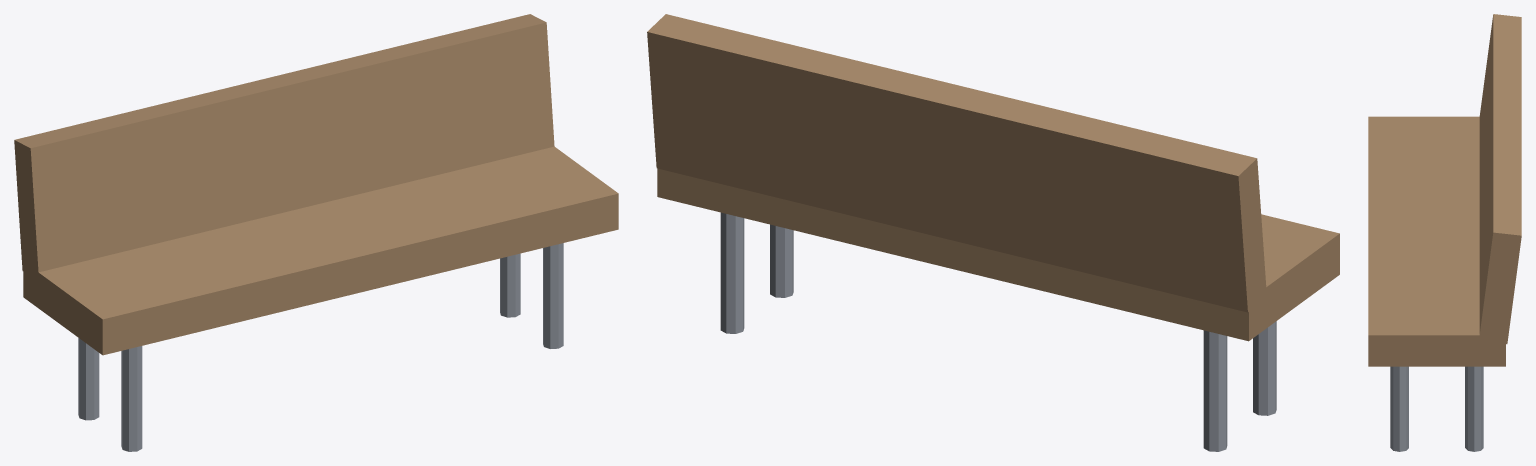
3 renders of one model, left to right at view 1: azimuth 30°, elevation 25°; view 2: azimuth 150°, elevation 25°; view 3: azimuth 270°, elevation 25°, orthographic. The views are drawn at different scales.
Visible parts, largest first — view 1: Back, Seat, Leg.2, Leg.4, Leg.1, Leg.3; view 2: Back, Seat, Leg.1, Leg.3, Leg.2, Leg.4; view 3: Seat, Back, Leg.3, Leg.4.
Part boxes in pixels (bbox=[...]): Back: bbox=[14, 14, 554, 279]; Seat: bbox=[23, 146, 618, 355]; Leg.2: bbox=[121, 346, 142, 451]; Leg.4: bbox=[543, 243, 563, 348]; Leg.1: bbox=[78, 338, 99, 420]; Leg.3: bbox=[500, 253, 520, 317]; Back: bbox=[647, 14, 1266, 312]; Seat: bbox=[657, 168, 1339, 341]; Leg.1: bbox=[1203, 330, 1227, 451]; Leg.3: bbox=[720, 212, 744, 333]; Leg.2: bbox=[1253, 321, 1276, 415]; Leg.4: bbox=[770, 224, 793, 297]; Seat: bbox=[1368, 116, 1505, 366]; Back: bbox=[1479, 14, 1521, 344]; Leg.3: bbox=[1465, 366, 1483, 451]; Leg.4: bbox=[1390, 366, 1408, 451].
Size of the model in its own units: 1.8 by 0.9045 by 0.5348.
